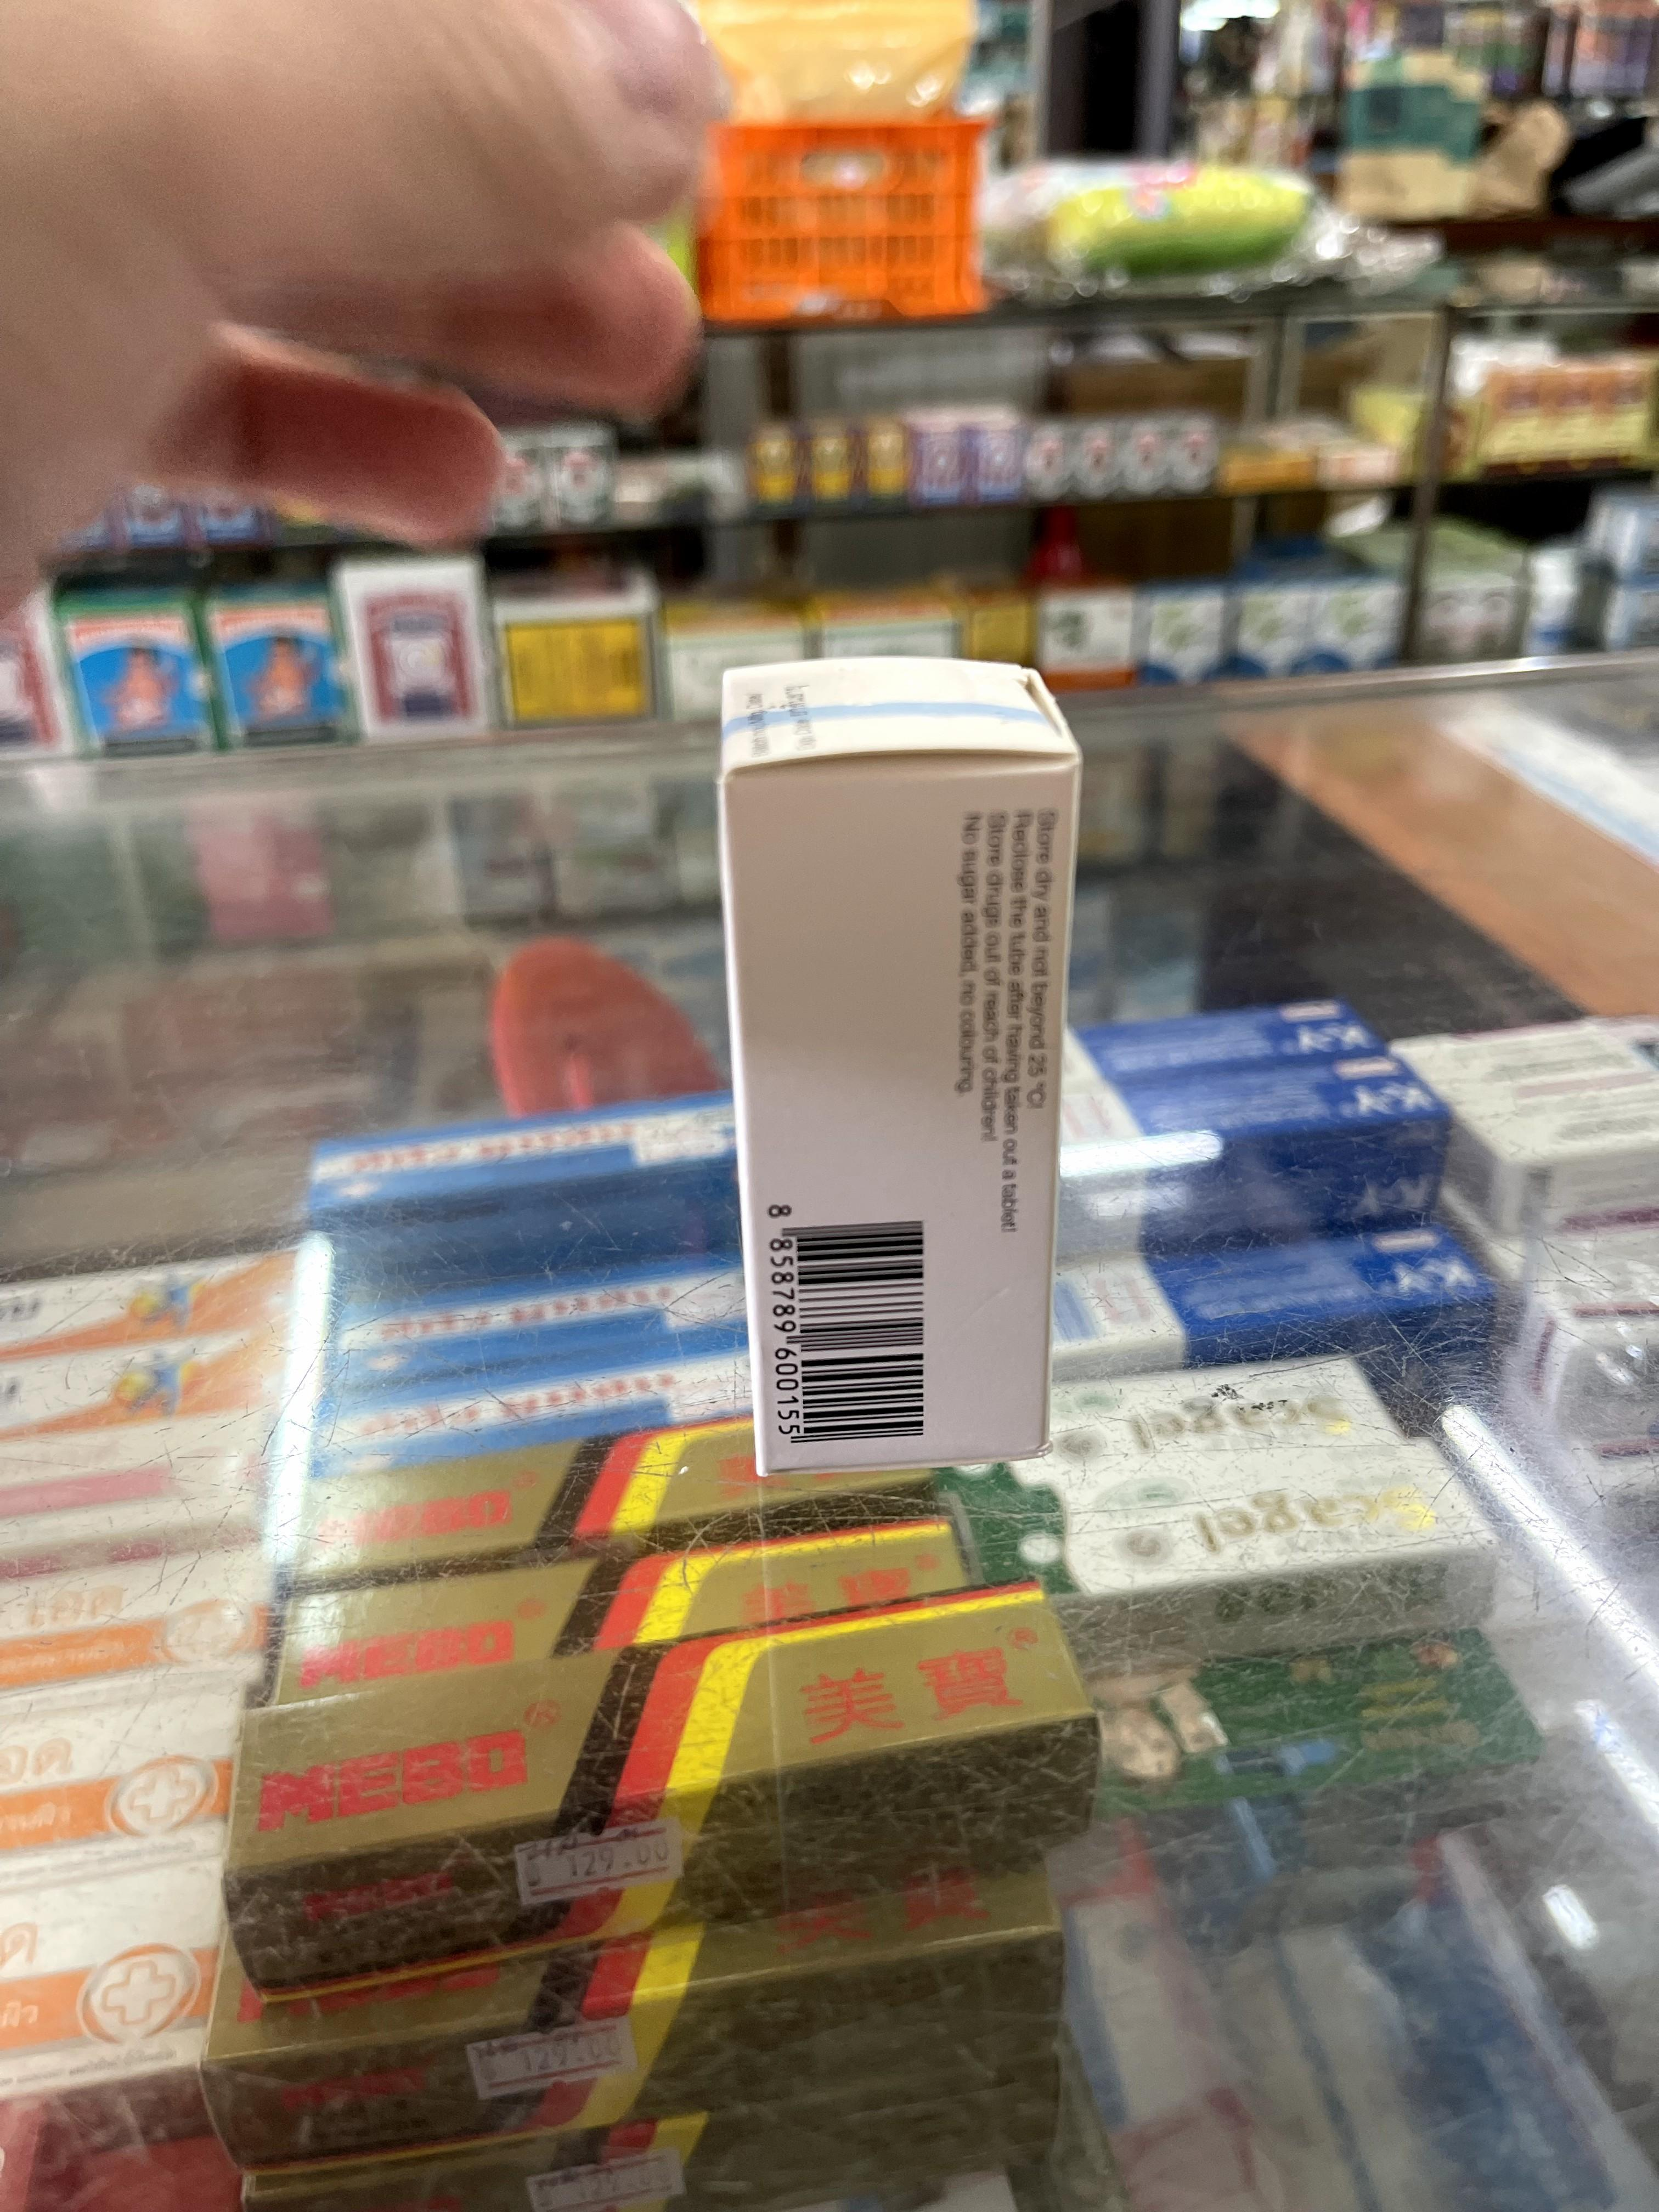Nac-Long: (721, 658, 1075, 1470)
